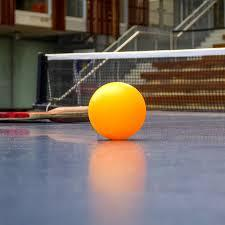oball: (86, 81, 148, 142)
